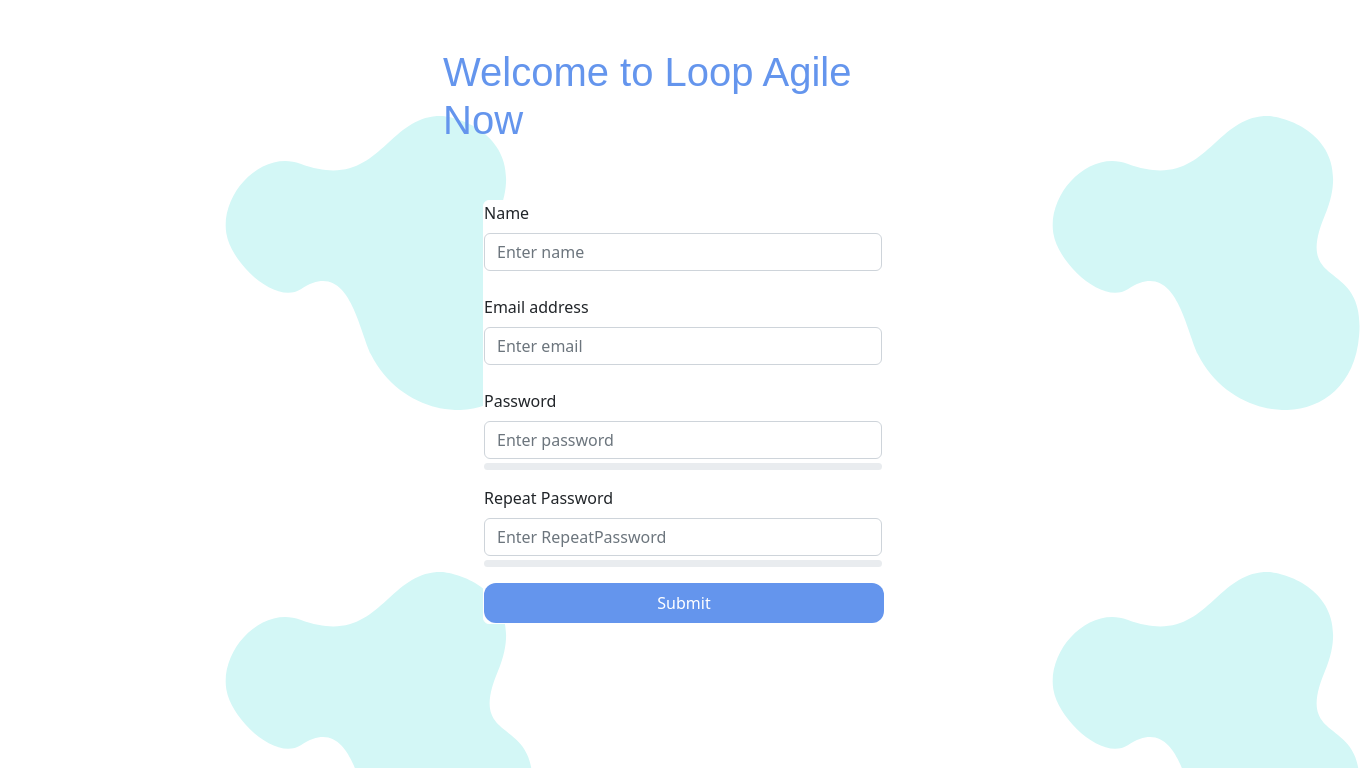
Failure Signup
This screenshot has width=1366, height=768.
# fill all blank
In the field with placeholder "Enter name": (683, 252) [484,233,882,271], type "testName"
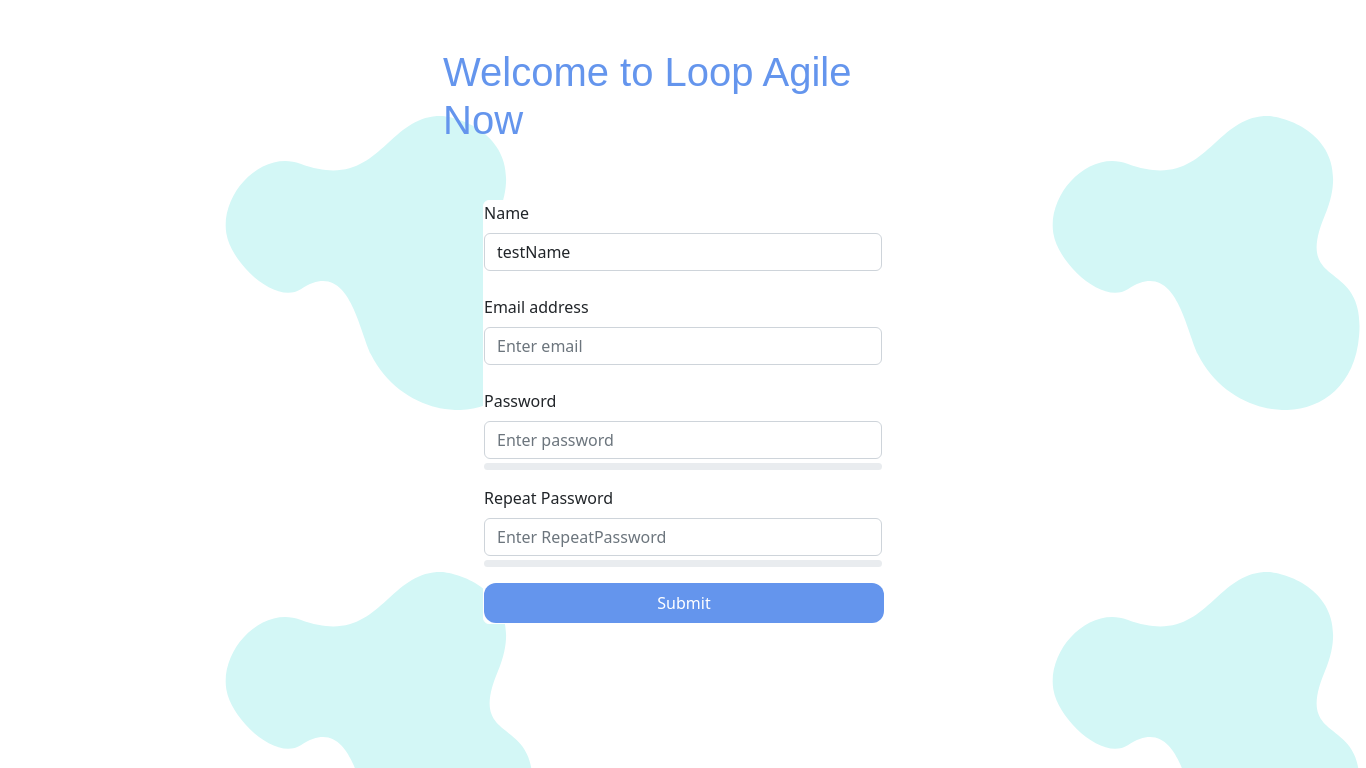
In the field with placeholder "Enter email": (683, 346) [484,327,882,365], type "test@gmail.com"
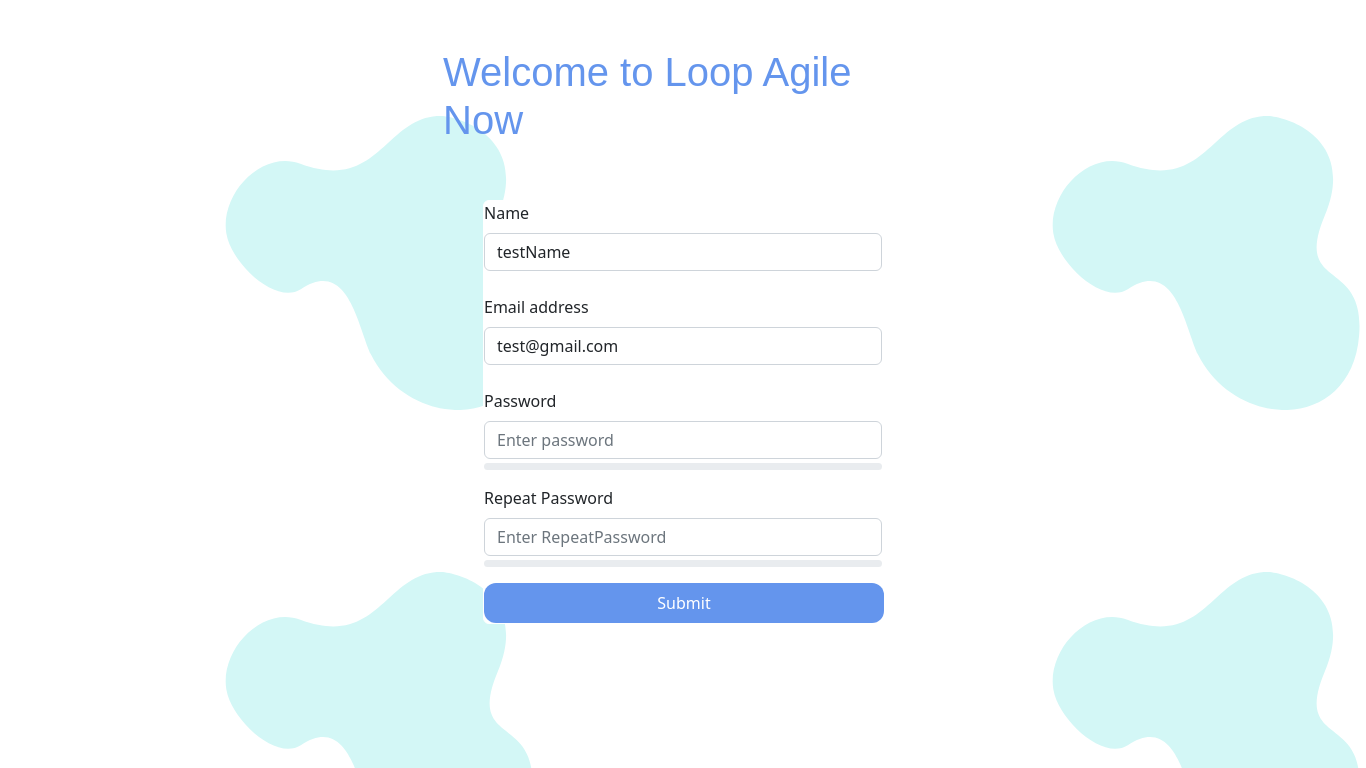
In the password field with placeholder "Enter password": (683, 440) [484,421,882,459], type "Aa$12345678"
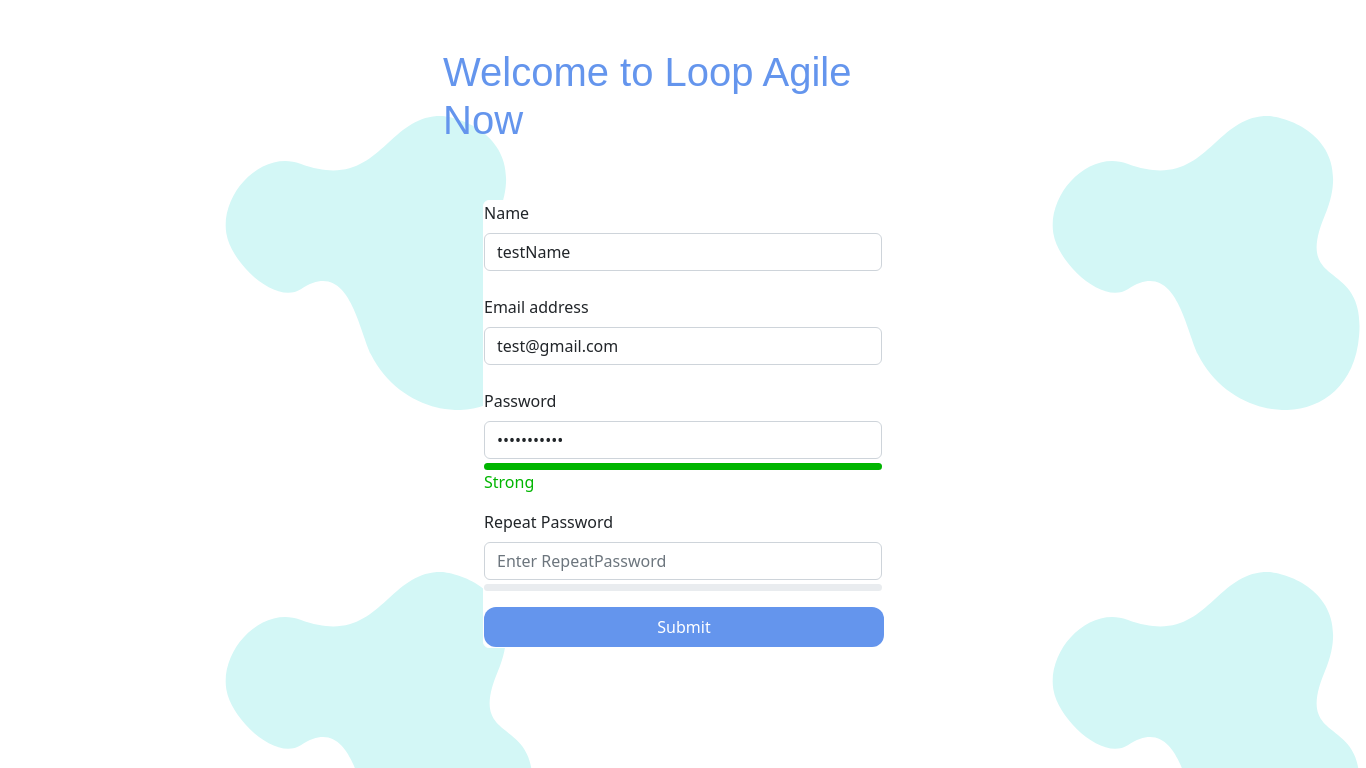
In the password field with placeholder "Enter RepeatPassword": (683, 561) [484,542,882,580], type "Aa$12345678"
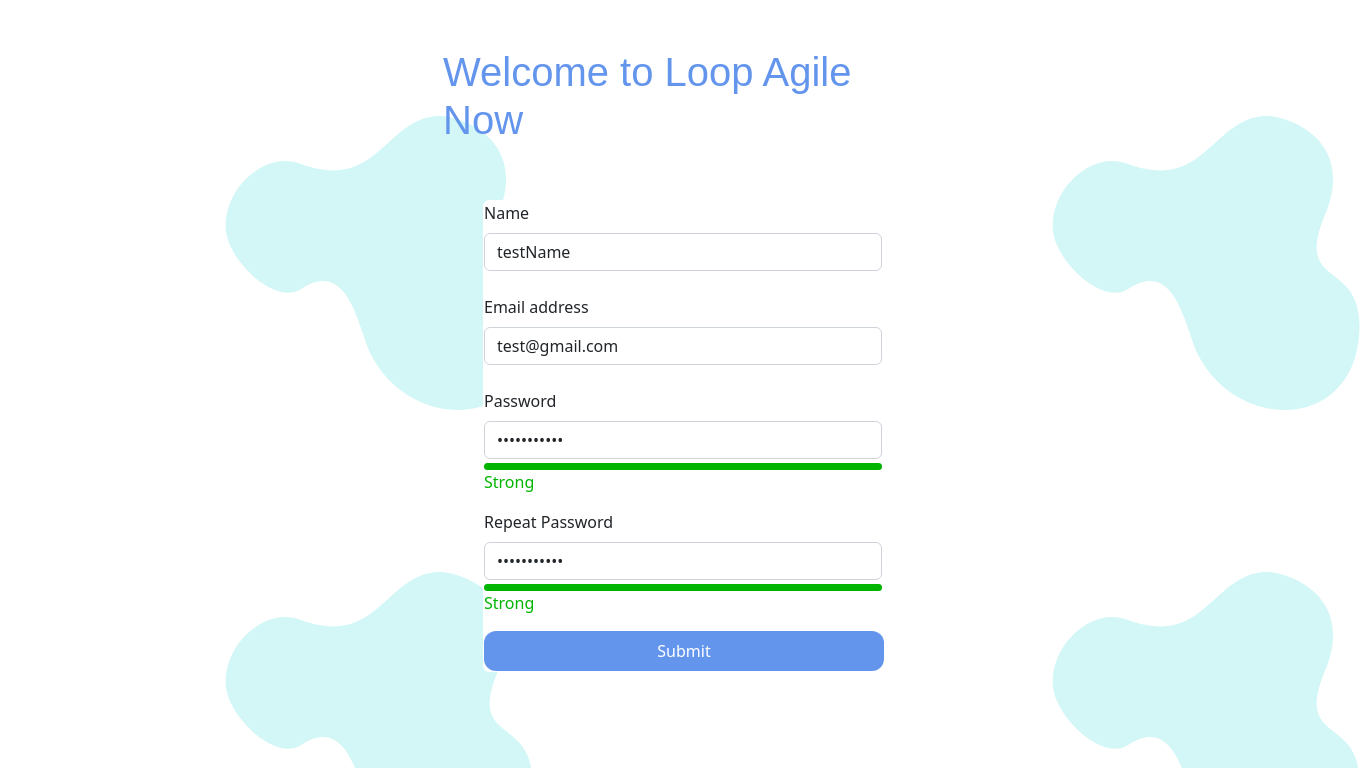
Click the button "Submit": (684, 651) [484,631,884,671]
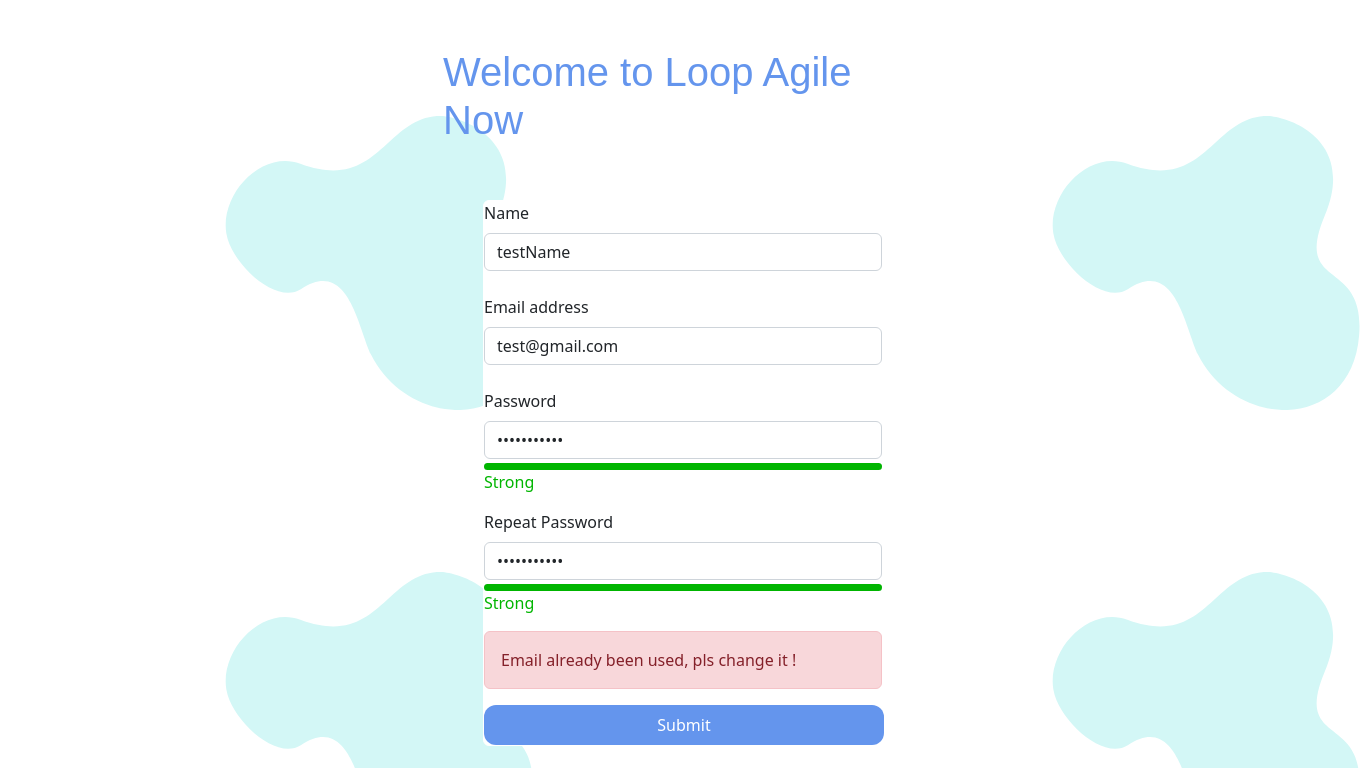
Result: the text "Email already been used, pls change it !" is shown at [484,631,882,689]
